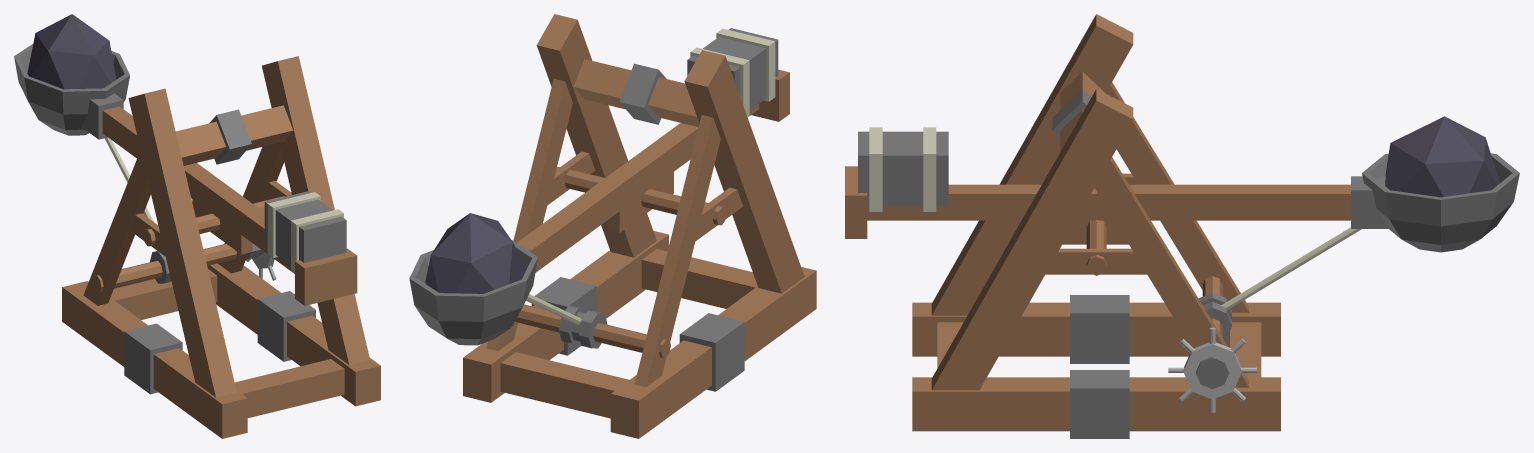
Rendered from Catapult.fbx.
The picture shows the model from 3 angles, left to right: view 1: azimuth 30°, elevation 25°; view 2: azimuth 150°, elevation 25°; view 3: azimuth 270°, elevation 25°; orthographic projection. The views are drawn at different scales.
Visible parts, largest first — view 1: Catapult_Geo; view 2: Catapult_Geo; view 3: Catapult_Geo.
Boxes of the visible parts, x1,y1,x2,y2 form: Catapult_Geo: [14, 14, 380, 438]; Catapult_Geo: [409, 14, 816, 438]; Catapult_Geo: [845, 14, 1519, 438].
Bounding box in the file's own units: 56.92 × 88.82 × 162.
